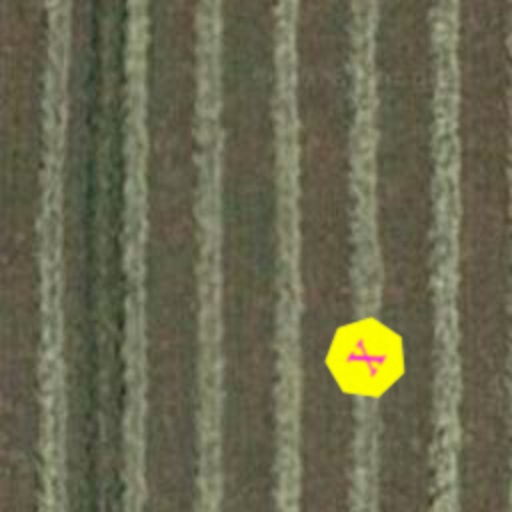heptagon: (308, 300, 424, 416)
